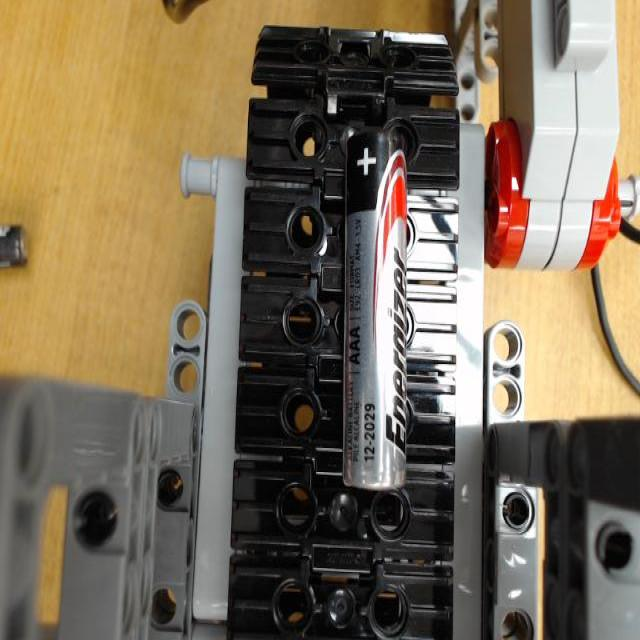AAA: (345, 127, 409, 490)
